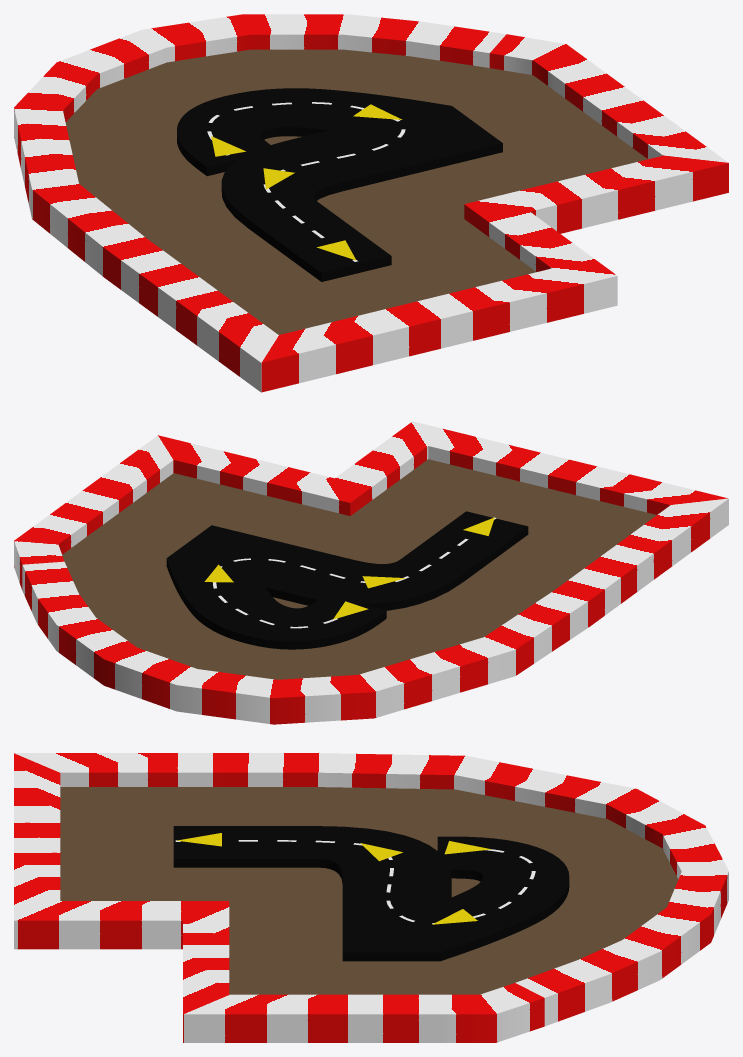
Rendered from meem.FBX.
The picture shows the model from 3 angles, top to bottom: view 1: azimuth 30°, elevation 25°; view 2: azimuth 150°, elevation 25°; view 3: azimuth 270°, elevation 25°; orthographic projection. The views are drawn at different scales.
Visible parts, largest first — view 1: mim_coll, mim_floor, mim, line0; view 2: mim_coll, mim_floor, mim, line0; view 3: mim_coll, mim_floor, mim, line0.
Boxes of the visible parts, box(x1,y1,x2,y2) form: mim_coll: box(14, 14, 728, 392); mim_floor: box(65, 49, 647, 334); mim: box(177, 88, 502, 281); line0: box(207, 102, 405, 261); mim_coll: box(14, 421, 728, 724); mim_floor: box(62, 459, 656, 679); mim: box(166, 511, 528, 649); line0: box(213, 517, 496, 628); mim_coll: box(14, 753, 728, 1042); mim_floor: box(60, 787, 678, 994); mim: box(173, 826, 569, 961); line0: box(175, 840, 535, 923).
Size of the model in its own units: 640 by 32.76 by 741.
